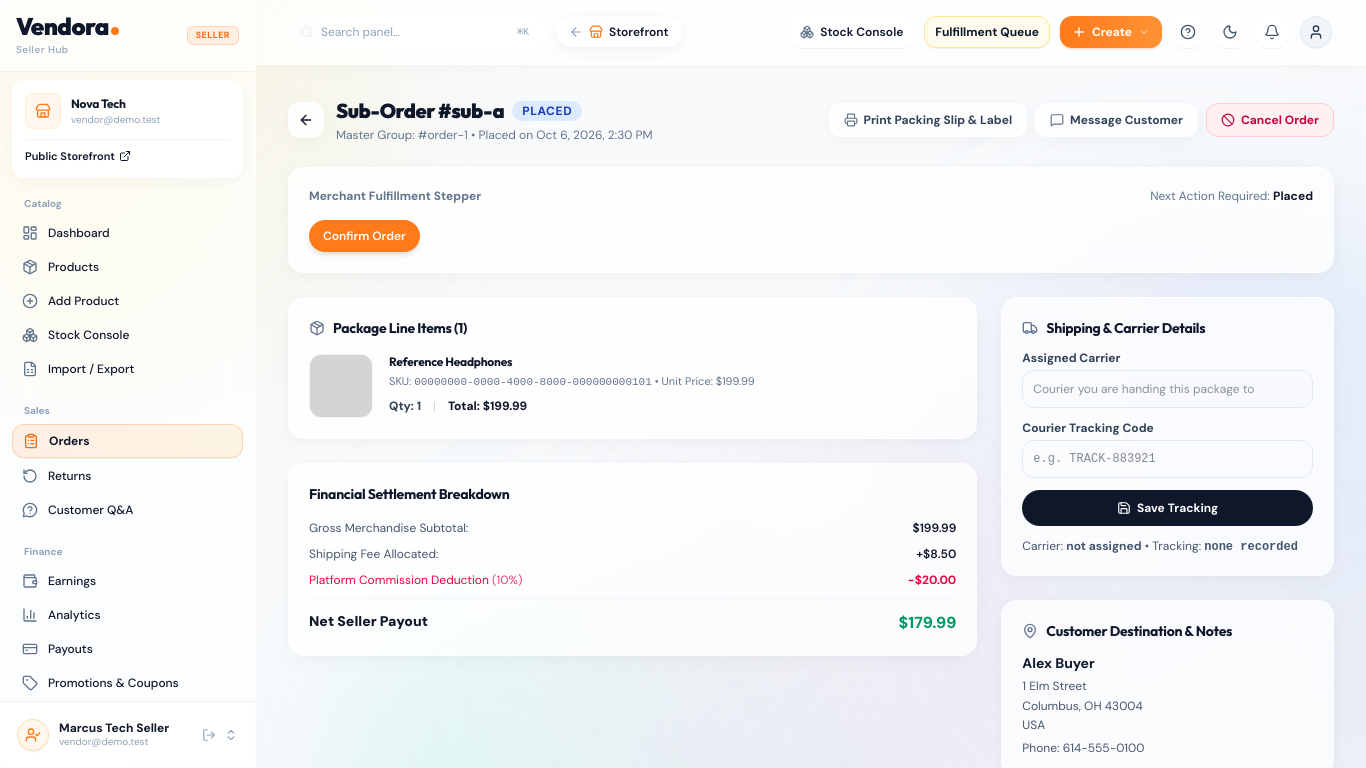
it: VendorOrderDetailPage › will not open a conversation the buyer never started
The image size is (1366, 768).
Click the button "Message Customer".
click(1117, 120)  # box [1035,103,1198,137]
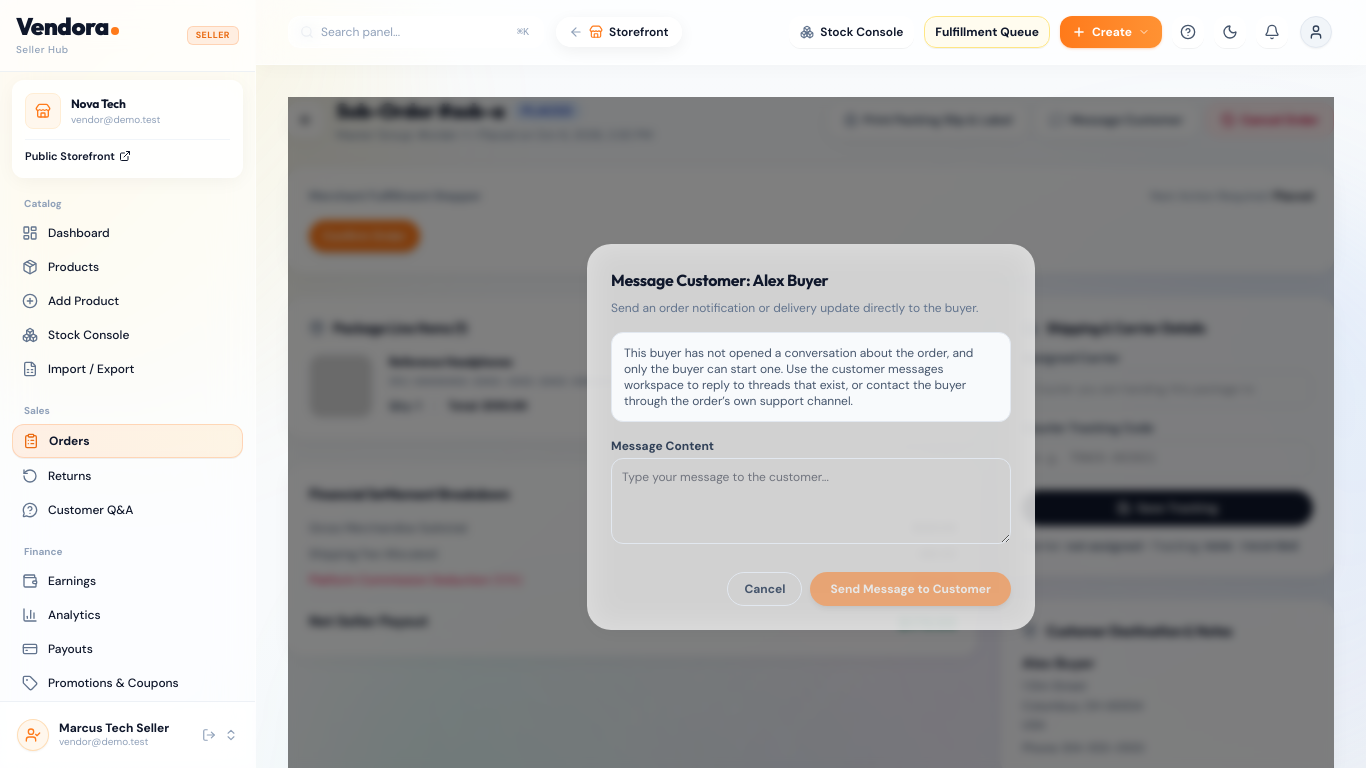
Check: the text "This buyer has not opened a conversation about the order" is shown, box [624,345,973,409]
Check: the button "Send Message to Customer" is disabled, box [810,572,1011,606]
